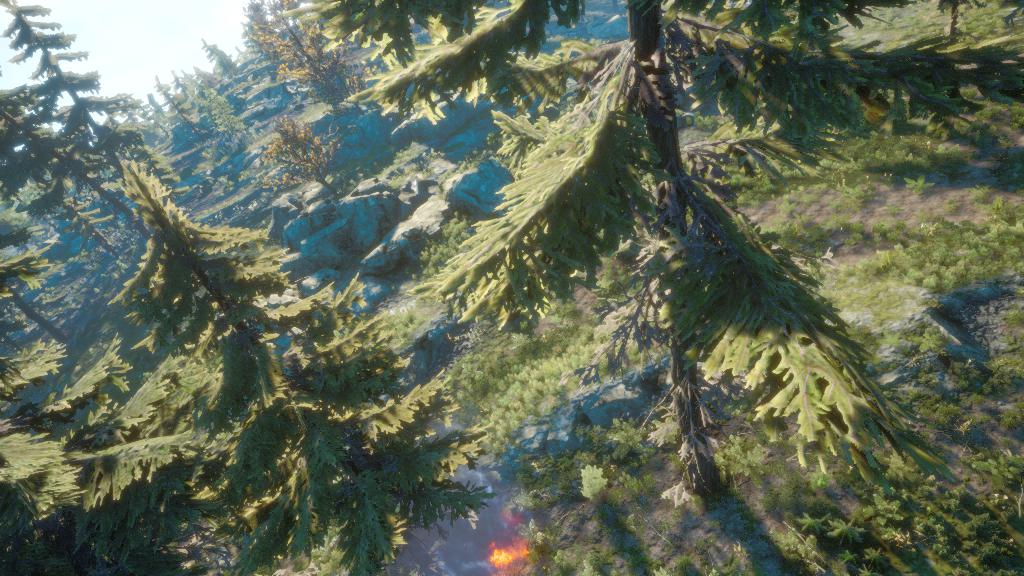Fire: (484, 523, 533, 575)
